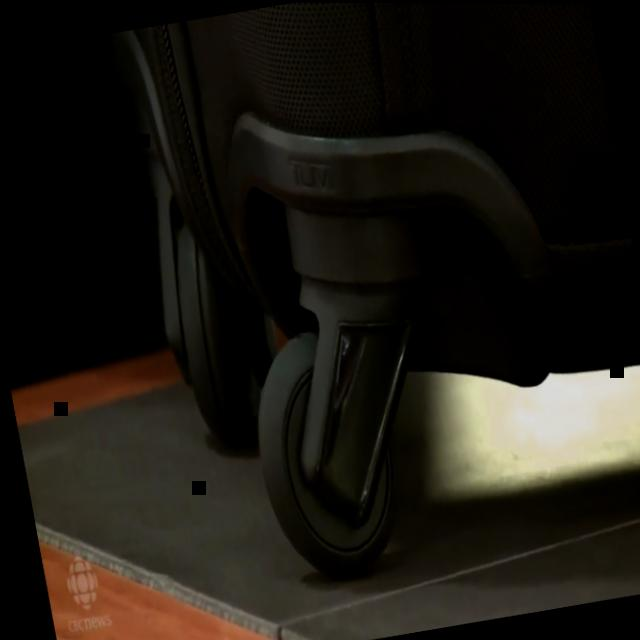luggage: (105, 1, 640, 602)
